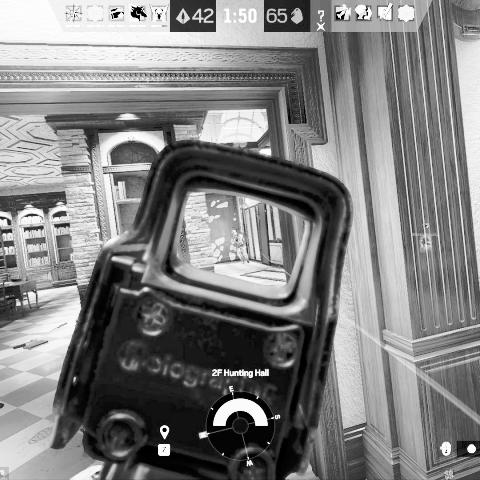Character: (230, 229, 250, 266)
Friend_label: (410, 222, 441, 238)
Head: (230, 229, 238, 237)
